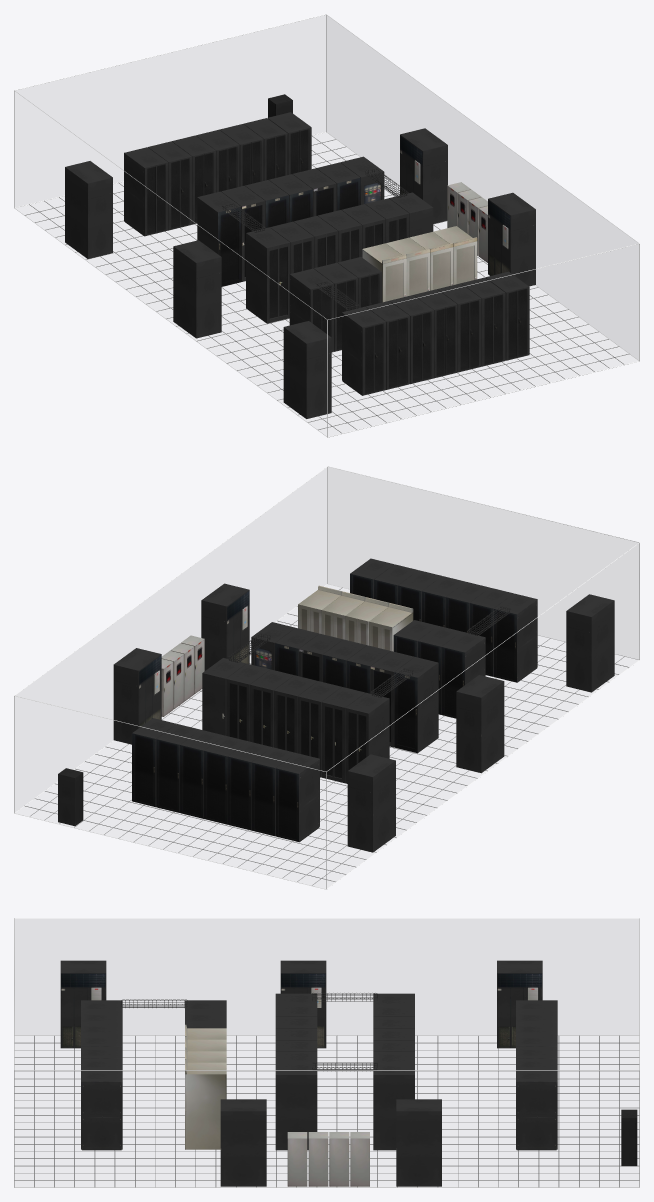
The picture shows the model from 3 angles, top to bottom: view 1: azimuth 30°, elevation 25°; view 2: azimuth 150°, elevation 25°; view 3: azimuth 270°, elevation 25°; orthographic projection.
Visible parts, largest first — view 1: 2F_OpacityWall, 2F_OpacityWall01_Line, 2FEquipment02, 2FEquipment, 2F_OpacityWall01, S0E62, S0E61, S0E63, 2F_JG06, S0E72, 2F_JG00, S0E71 (+18 smaller); view 2: 2F_OpacityWall, 2F_OpacityWall01_Line, 2FEquipment, 2FEquipment02, 2F_OpacityWall01, S0E61, S0E63, S0E62, 2F_JG06, S0E71, 2F_JG00, S0E72 (+18 smaller); view 3: 2F_OpacityWall, 2F_OpacityWall01_Line, 2F_OpacityWall01, 2FEquipment02, 2FEquipment, S0E72, S0E71, S0E11, S0E52, S0E61, S0E63, 2F_OpacityWall_Line (+17 smaller).
Part boxes in pixels (bbox=[...]): 2F_OpacityWall: bbox=[15, 15, 638, 359]; 2F_OpacityWall01_Line: bbox=[16, 133, 637, 436]; 2FEquipment02: bbox=[197, 180, 529, 360]; 2FEquipment: bbox=[124, 94, 487, 262]; 2F_OpacityWall01: bbox=[24, 136, 629, 433]; S0E62: bbox=[173, 240, 221, 338]; S0E61: bbox=[283, 321, 331, 418]; S0E63: bbox=[65, 161, 112, 258]; 2F_JG06: bbox=[246, 227, 290, 323]; S0E72: bbox=[488, 192, 535, 286]; 2F_JG00: bbox=[342, 306, 385, 395]; S0E71: bbox=[400, 128, 447, 223]; 2F_OpacityWall: bbox=[15, 467, 638, 811]; 2F_OpacityWall01_Line: bbox=[16, 585, 638, 888]; 2FEquipment: bbox=[58, 635, 319, 842]; 2FEquipment02: bbox=[297, 558, 413, 783]; 2F_OpacityWall01: bbox=[24, 587, 629, 885]; S0E61: bbox=[566, 594, 614, 692]; S0E63: bbox=[347, 754, 395, 852]; S0E62: bbox=[456, 675, 504, 773]; 2F_JG06: bbox=[394, 657, 438, 753]; S0E71: bbox=[113, 648, 161, 744]; 2F_JG00: bbox=[493, 593, 537, 682]; S0E72: bbox=[201, 583, 249, 670]; 2F_OpacityWall: bbox=[15, 919, 638, 1034]; 2F_OpacityWall01_Line: bbox=[15, 1036, 638, 1186]; 2F_OpacityWall01: bbox=[14, 1035, 639, 1187]; 2FEquipment02: bbox=[81, 993, 414, 1150]; 2FEquipment: bbox=[287, 1000, 637, 1186]; S0E72: bbox=[220, 1099, 266, 1186]; S0E71: bbox=[396, 1099, 441, 1186]; S0E11: bbox=[516, 1070, 557, 1150]; S0E52: bbox=[275, 1063, 317, 1150]; S0E61: bbox=[60, 960, 106, 1048]; S0E63: bbox=[497, 960, 542, 1048]; 2F_OpacityWall_Line: bbox=[14, 918, 639, 1187].
Size of the model in its own units: 0.6932 by 0.2502 by 1.2.
Materials: 22 (19 with a texture image).
